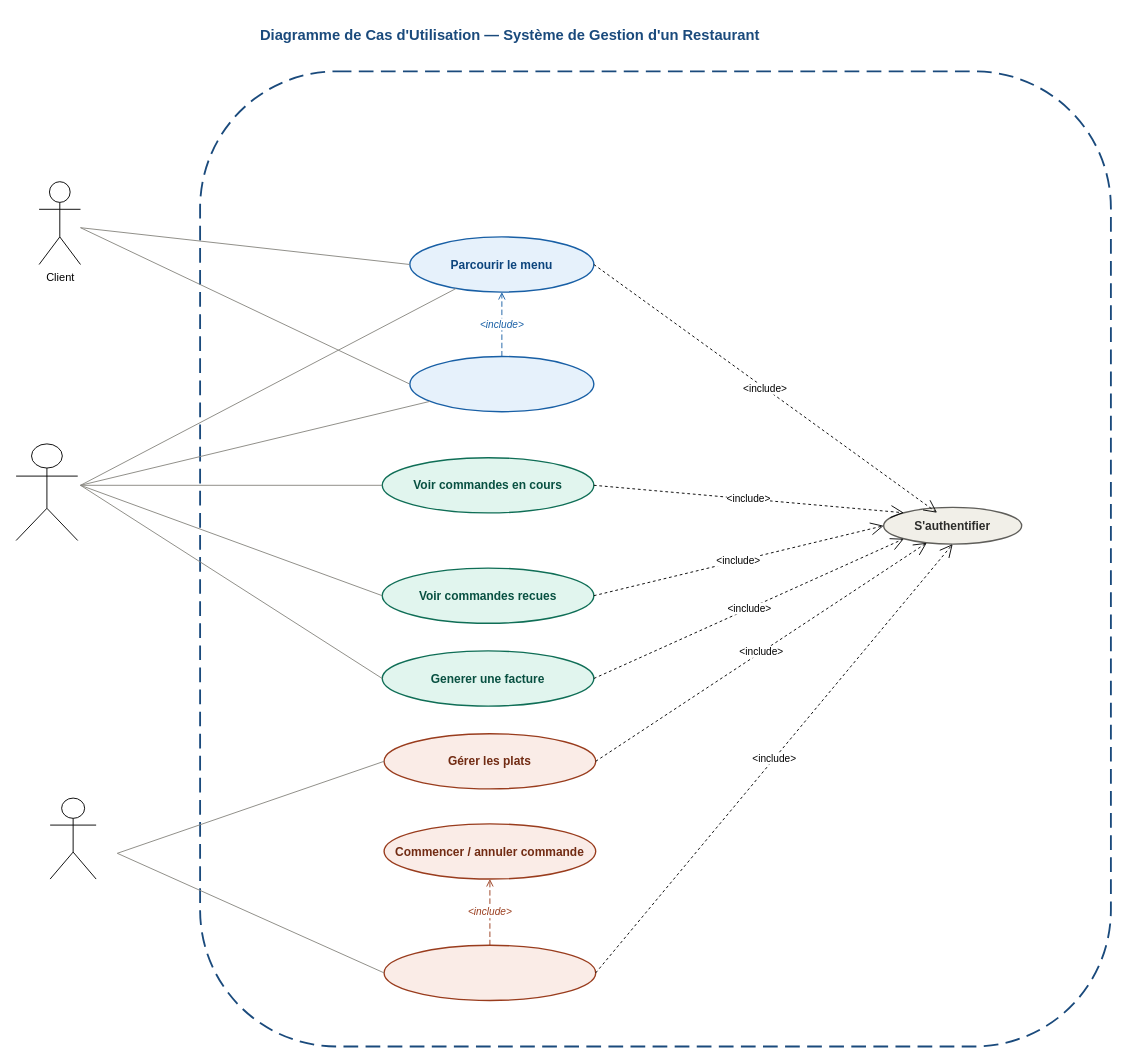
This 1128x1063 diagram has some shape labels left out. Each missing label, with the box of its shape:
Commander des plats: (409, 355, 594, 412)
Cuisinier: (49, 797, 96, 879)
Notifier la serveuse: (383, 944, 596, 1001)
Serveuse: (15, 443, 78, 540)
